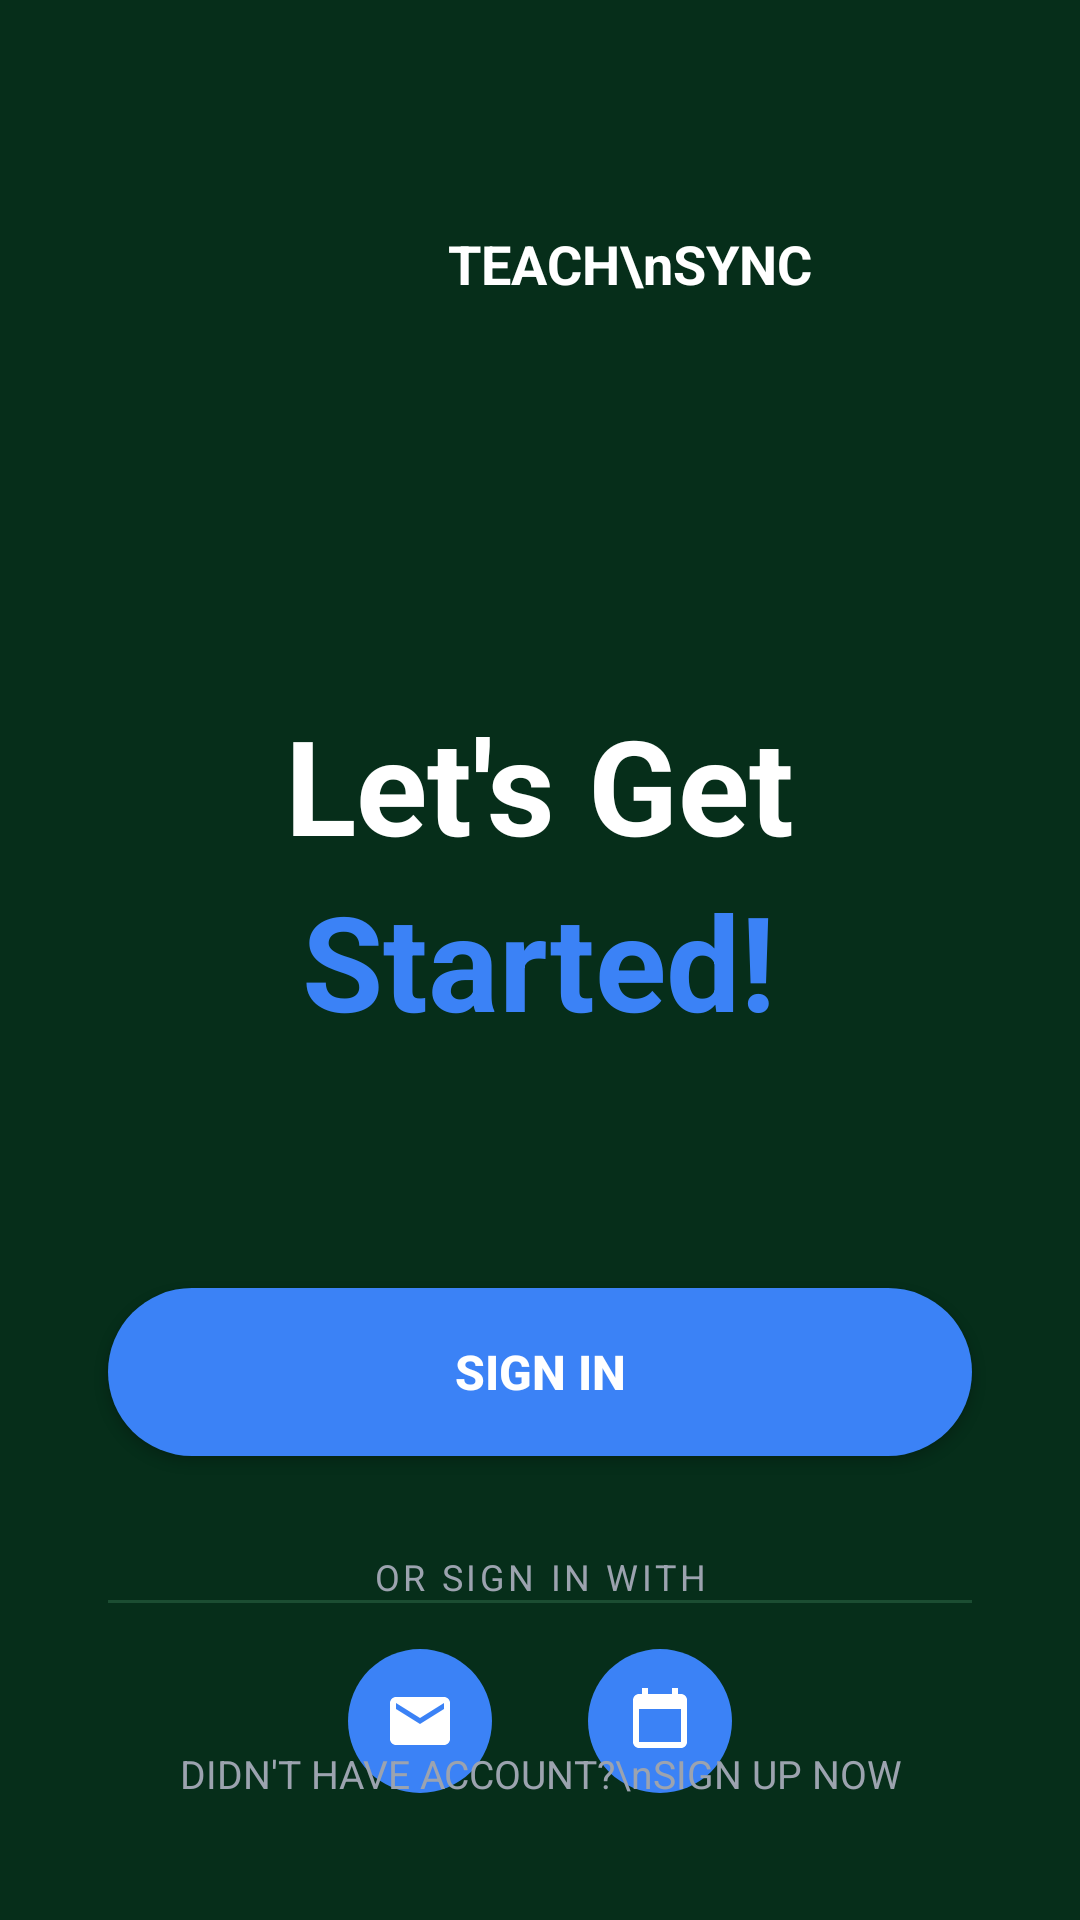

Icon bounding boxes for this 1080×1920 phone screenshot, format (x1, y1, x2, y2):
email: (348, 1649, 492, 1793)
schedule: (588, 1649, 732, 1793)
